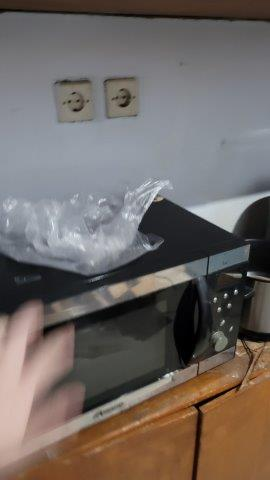plastik: (1, 177, 173, 279)
